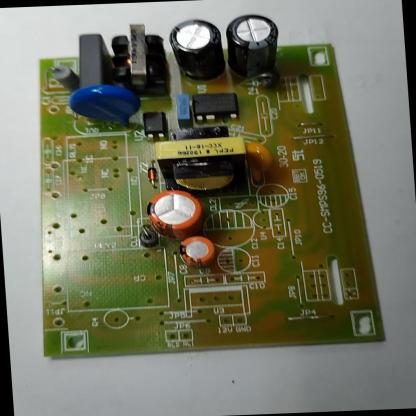Cap1: (144, 187, 203, 242)
Cap2: (178, 235, 214, 269)
Cap3: (166, 17, 228, 82)
Cap4: (224, 12, 282, 80)
MOSFET: (192, 90, 240, 120)
Mov: (66, 84, 142, 129)
Resistor: (50, 62, 78, 91)
Transformer: (152, 125, 250, 192), (105, 23, 169, 93)
